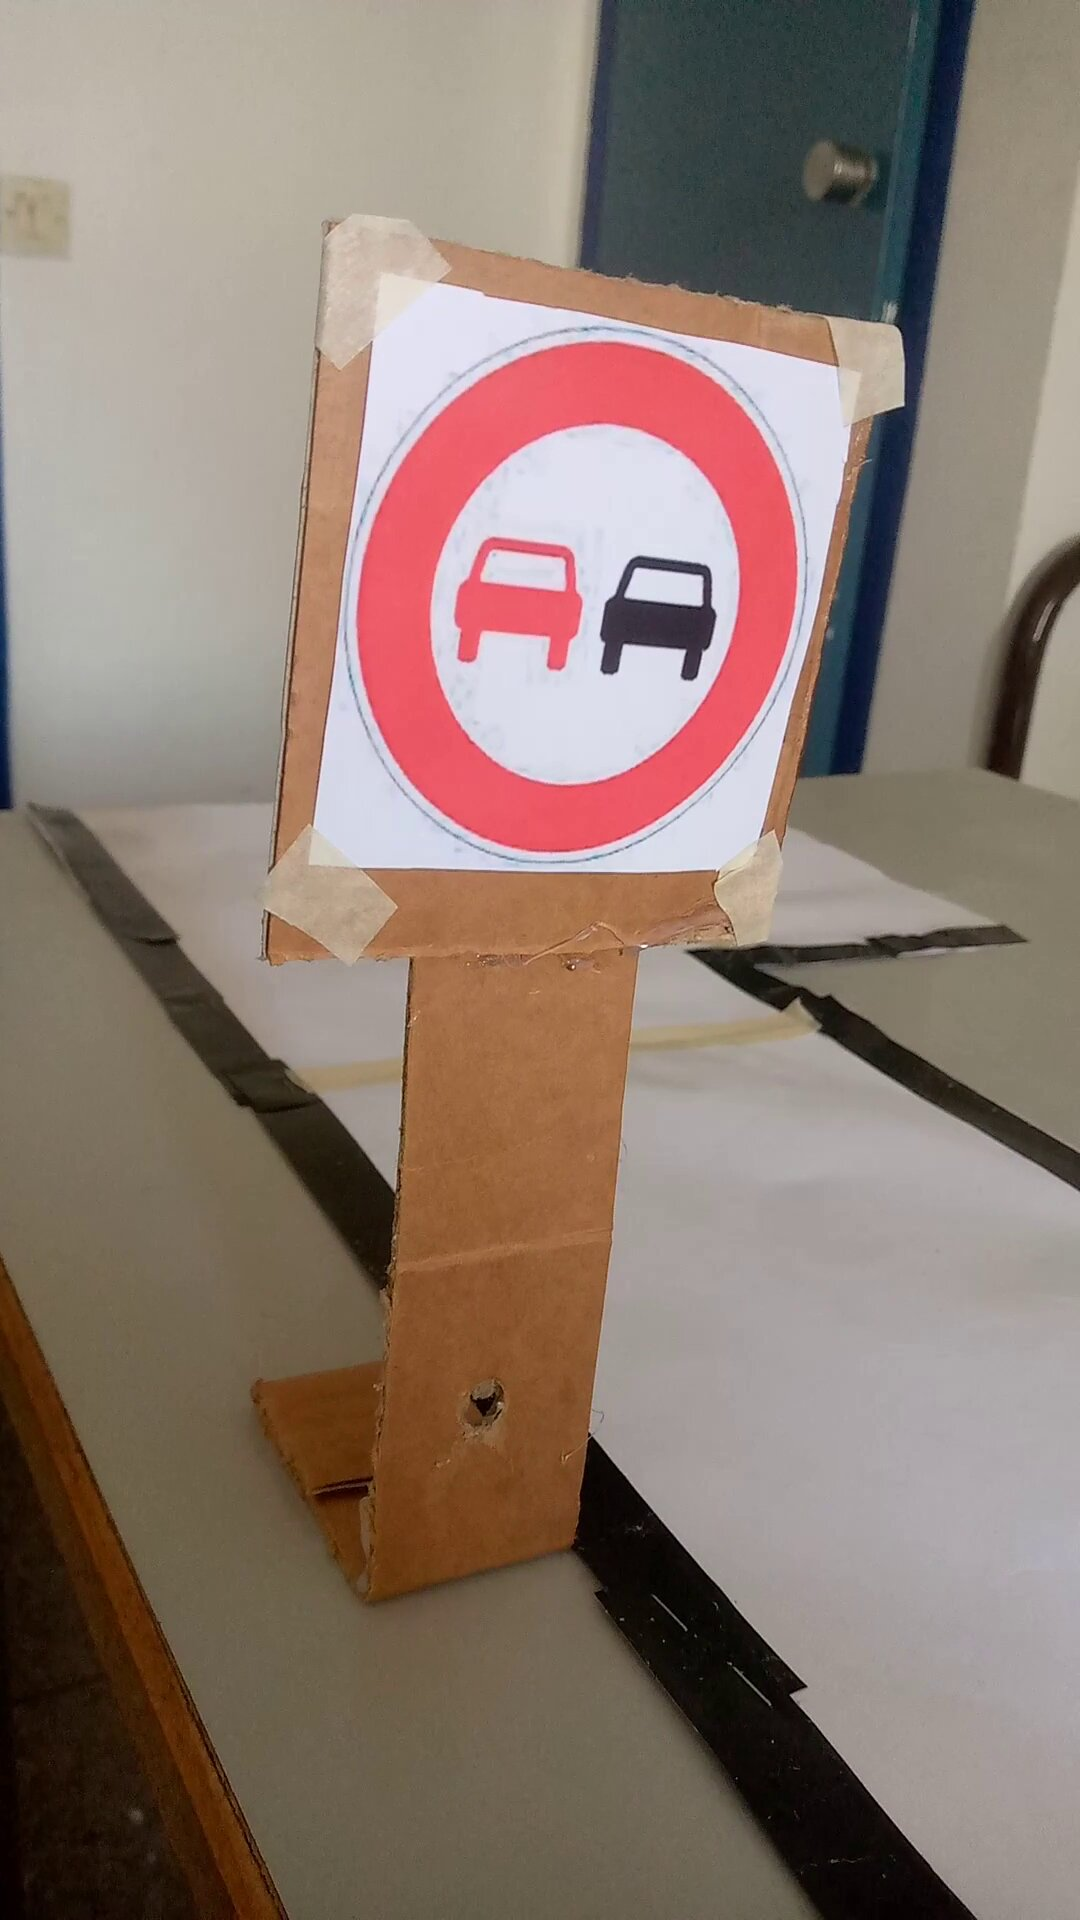panel100: (353, 257, 818, 889)
